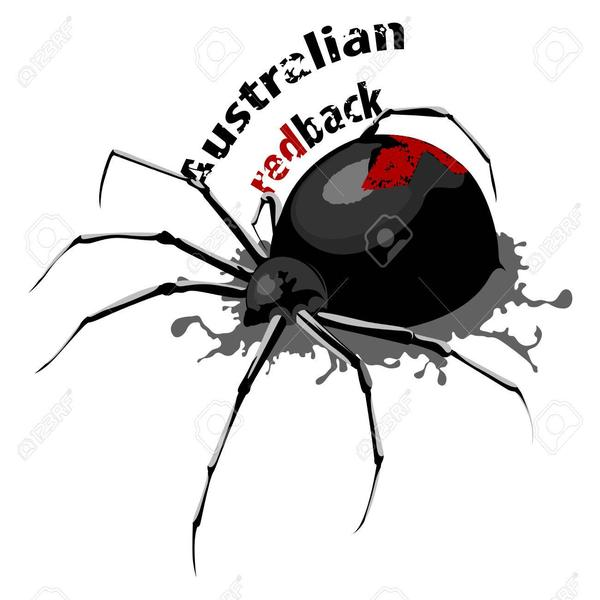Redback Spider: (39, 107, 537, 543)
